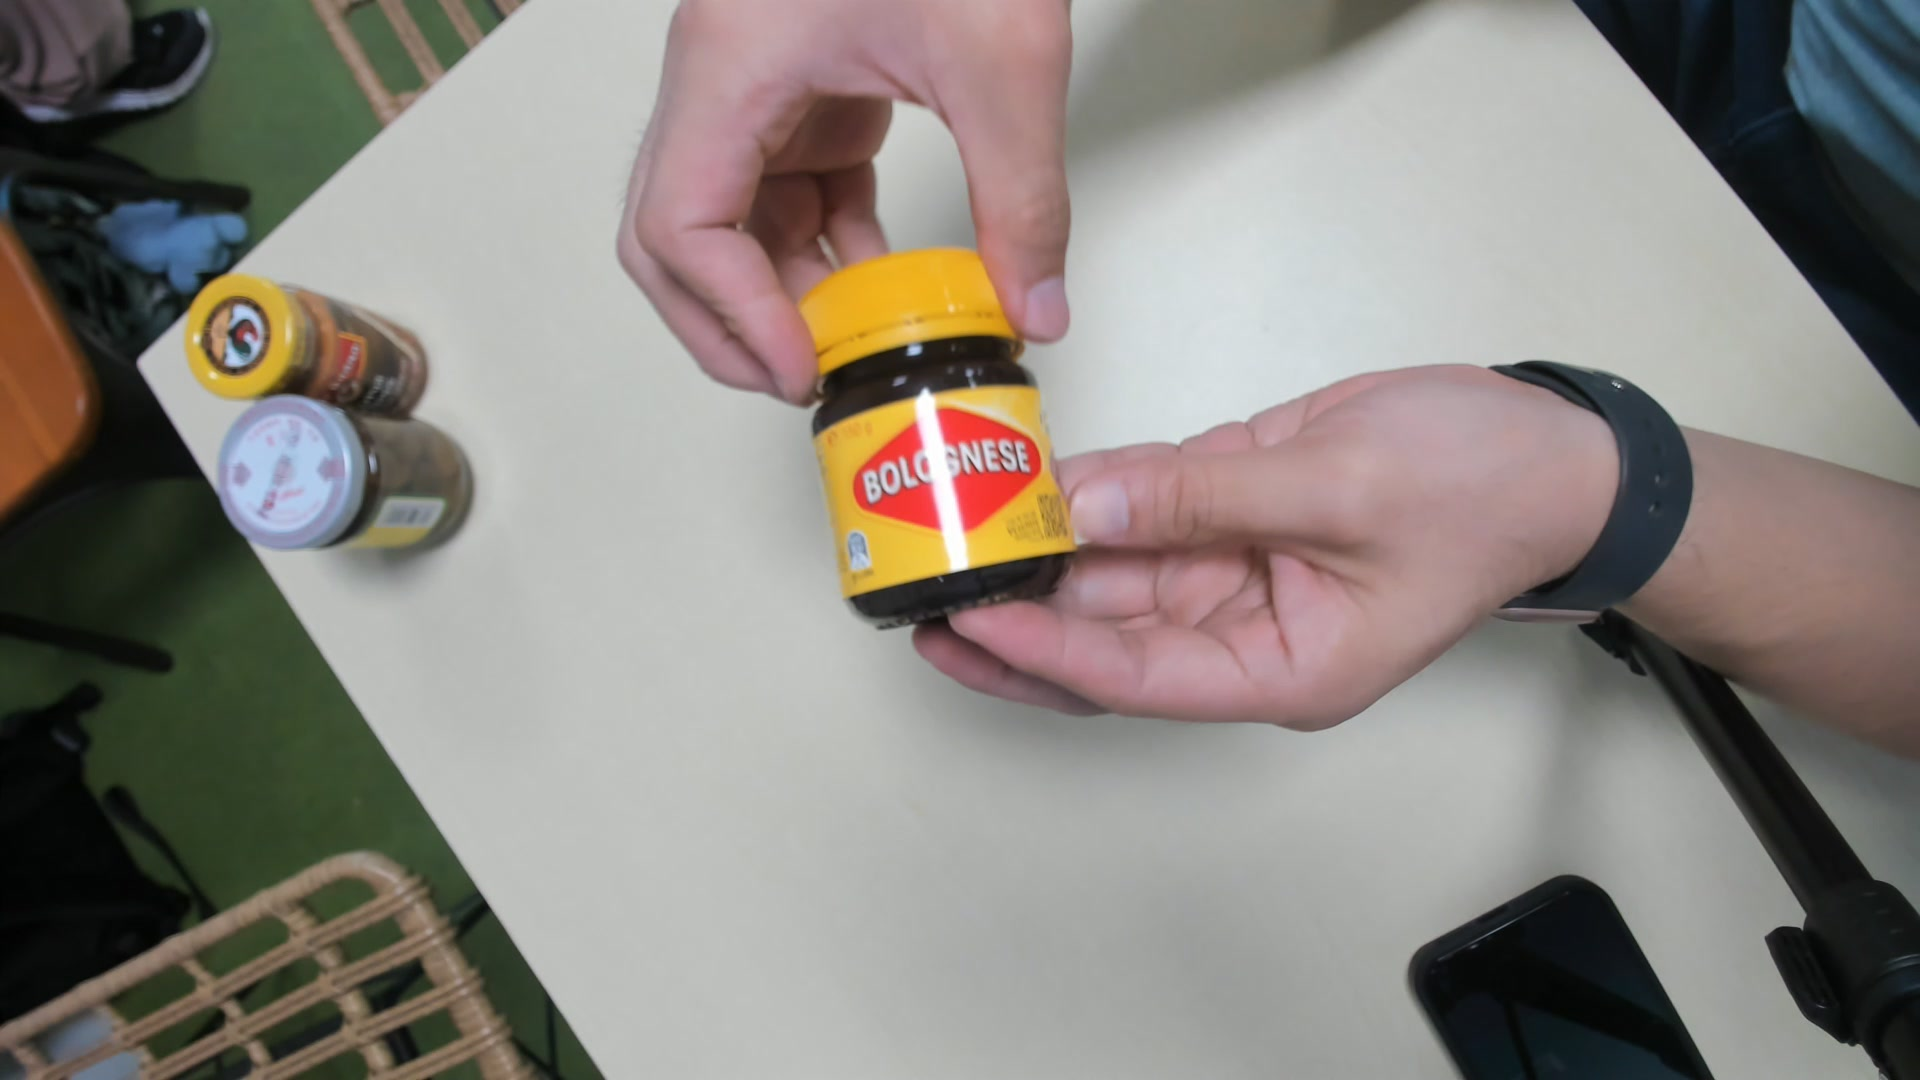OtherSauceDressing_200-299g_Halal_NonHealthy: (808, 247, 1073, 626)
